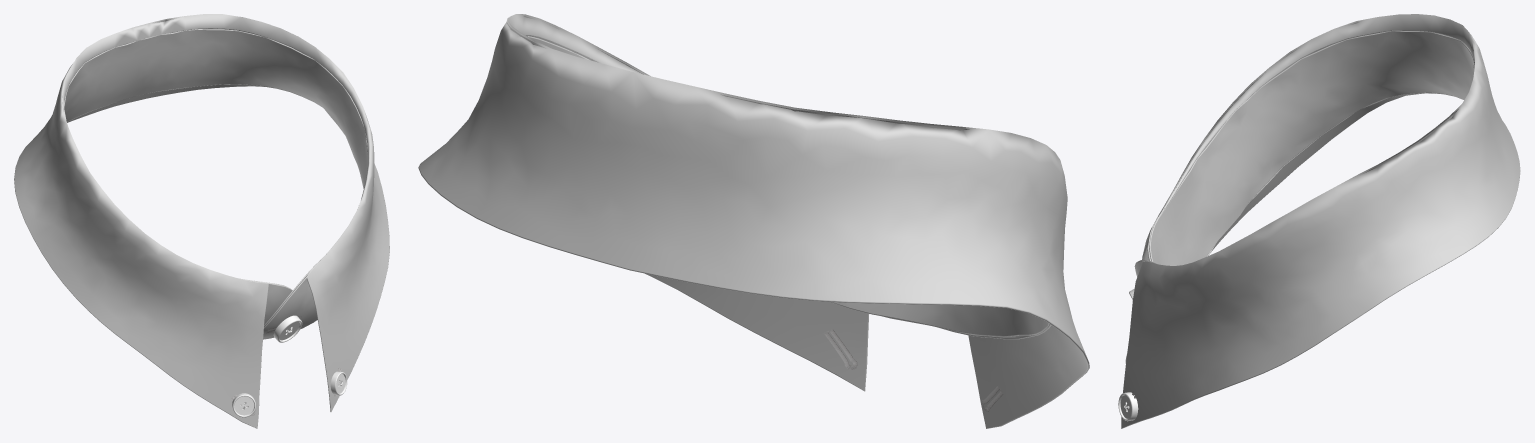
Rendered from Button_Down_Collar.glb.
The picture shows the model from 3 angles, left to right: view 1: azimuth 30°, elevation 25°; view 2: azimuth 150°, elevation 25°; view 3: azimuth 270°, elevation 25°; orthographic projection. The views are drawn at different scales.
Parts seen in each view (by area): view 1: Pattern_4935173_Node, inner_Node, Pattern_4935171_Node, button.001, button.002; view 2: Pattern_4935173_Node, inner_Node; view 3: Pattern_4935173_Node, inner_Node, Pattern_4935171_Node, button.004.
Part boxes in pixels (x1,y1,x2,y2): Pattern_4935173_Node: [14, 14, 389, 428]; inner_Node: [64, 29, 367, 326]; Pattern_4935171_Node: [67, 28, 367, 339]; button.001: [273, 315, 302, 342]; button.002: [232, 393, 256, 417]; Pattern_4935173_Node: [418, 14, 1089, 428]; inner_Node: [528, 36, 1049, 336]; Pattern_4935173_Node: [1121, 14, 1520, 428]; inner_Node: [1137, 30, 1474, 265]; Pattern_4935171_Node: [1134, 30, 1467, 276]; button.004: [1118, 392, 1138, 421].
Bounding box in the file's own units: 15.92 × 13.1 × 13.61.
Materials: 6 (3 with a texture image).
